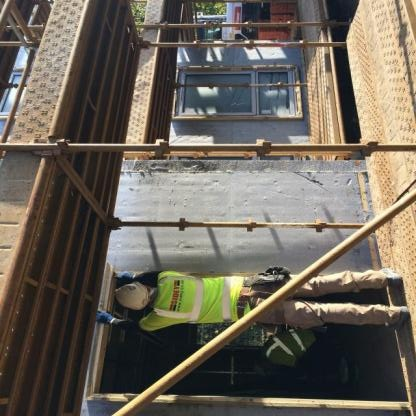vest: (146, 267, 244, 341)
white: (112, 279, 153, 315)
